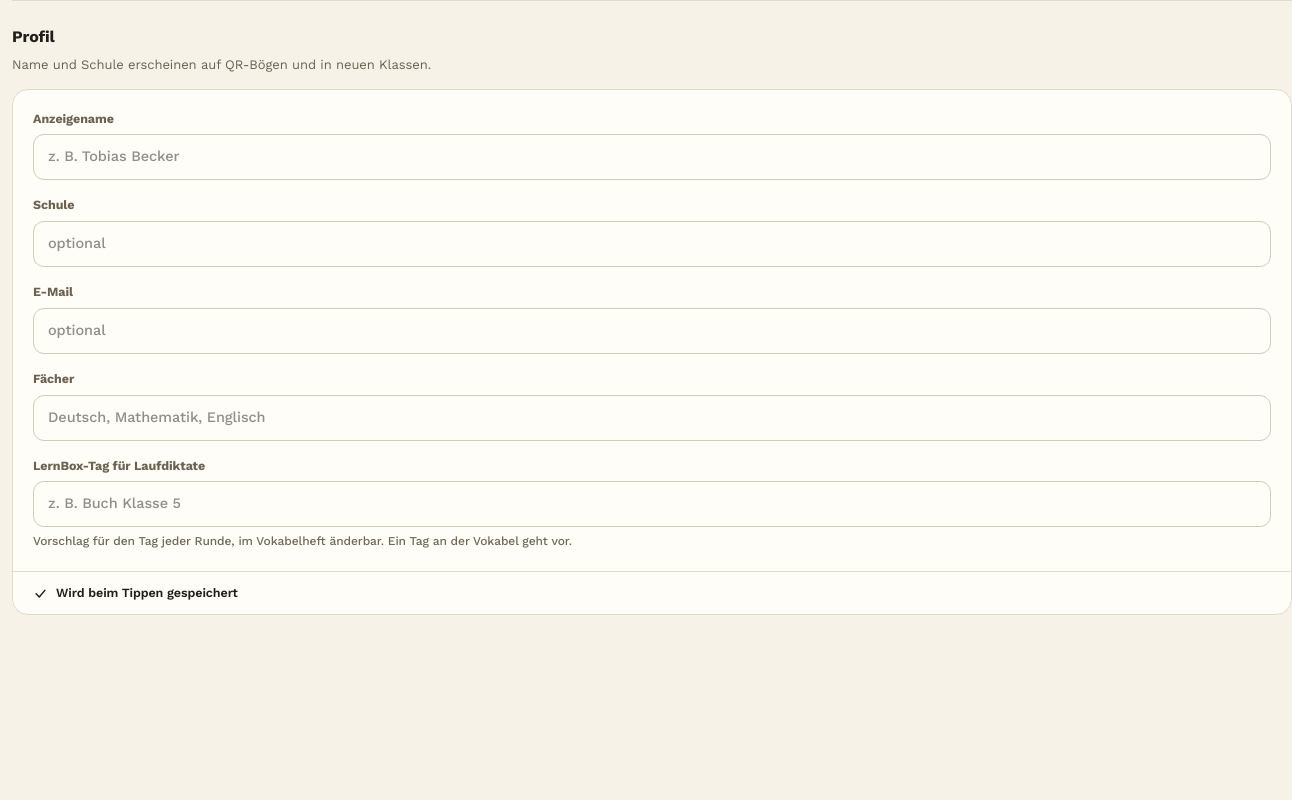
Test: teacher workspace manager › saves nothing without a display name
Type "X" into the field labelled "Schule" at [652, 244], box [33,221,1271,267]
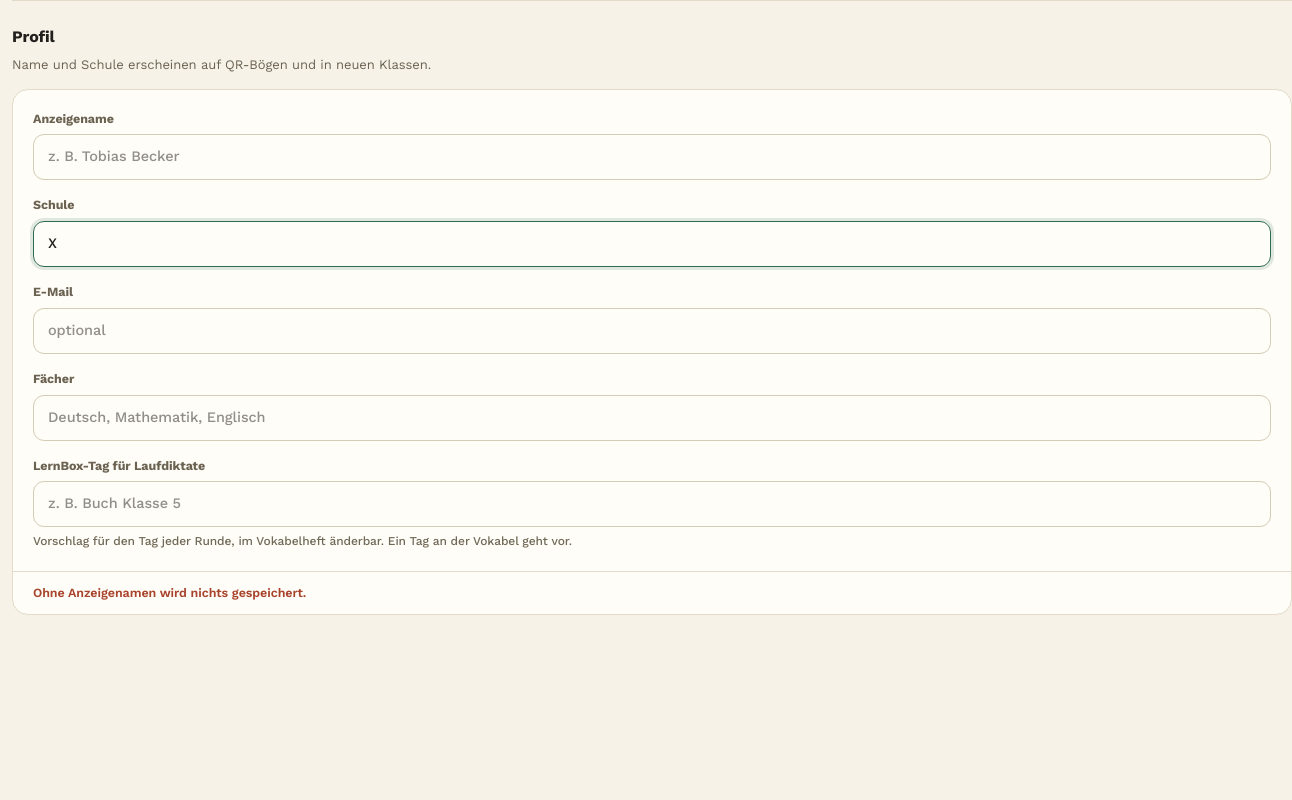
Expected: the text "Ohne Anzeigenamen wird nichts gespeichert." is shown, [33,584,306,602]
